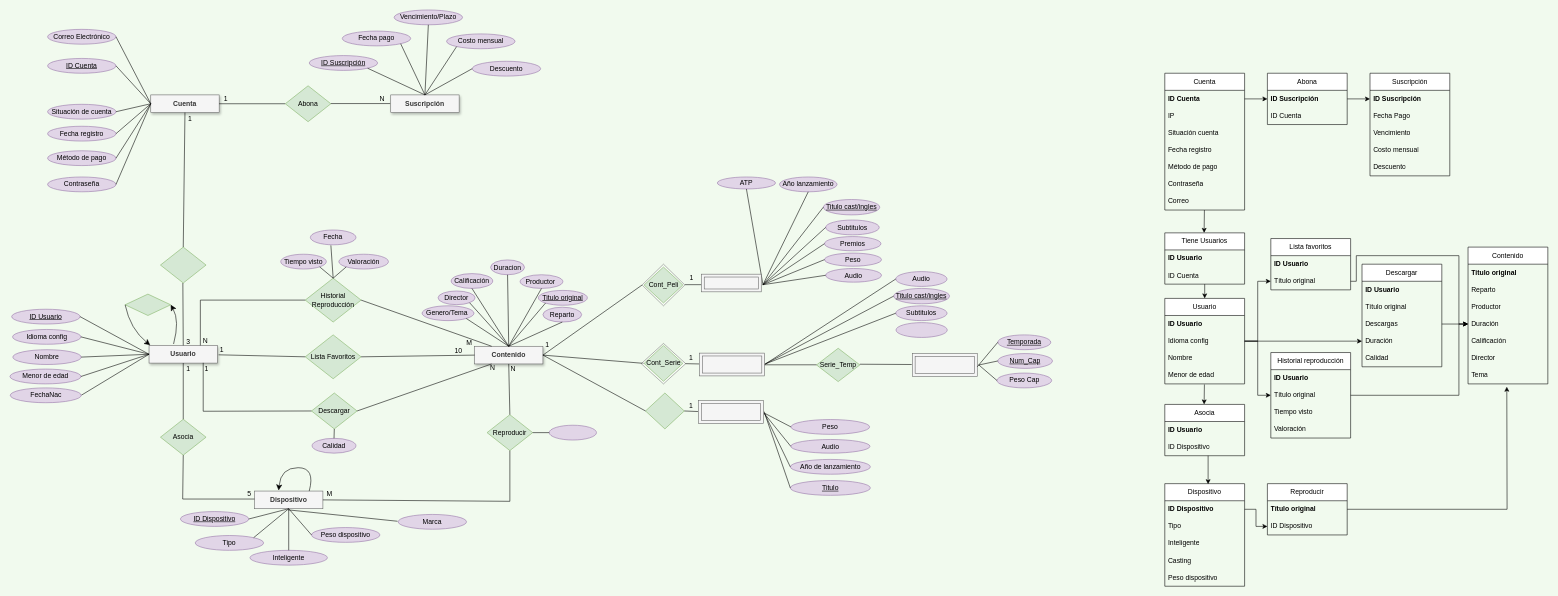
Image size: 1558x596. Some labels were removed from this diagram. Each missing label, with the centre of its shape:
"Capitulo" belongs at point 944,364.
"Cont_Docu" belongs at point 664,410.
"Documentales" belongs at point 731,412.
"Miniserie" belongs at point 921,329.
"Películas" belongs at point 731,283.
"Permite" belongs at point 183,265.
"Series" belongs at point 732,364.
"Velocidad" belongs at point 573,432.
"Watch party" belongs at point 148,304.
